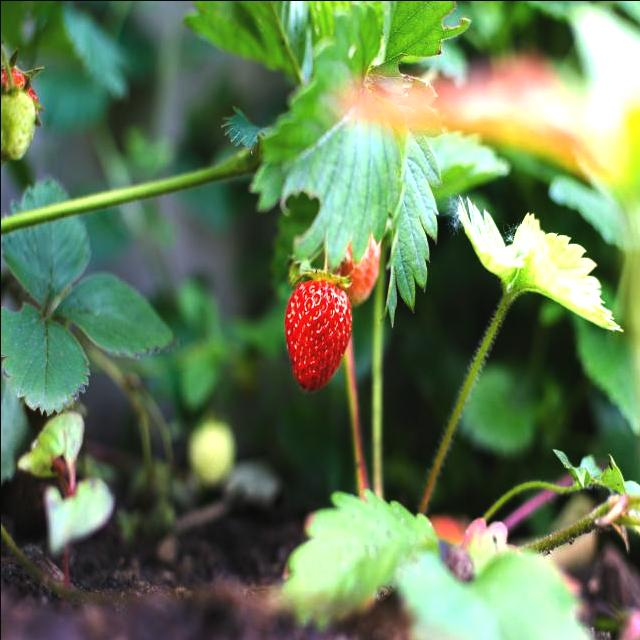ripe: (282, 264, 358, 396), (321, 210, 386, 323)
unripe: (0, 75, 43, 176)
